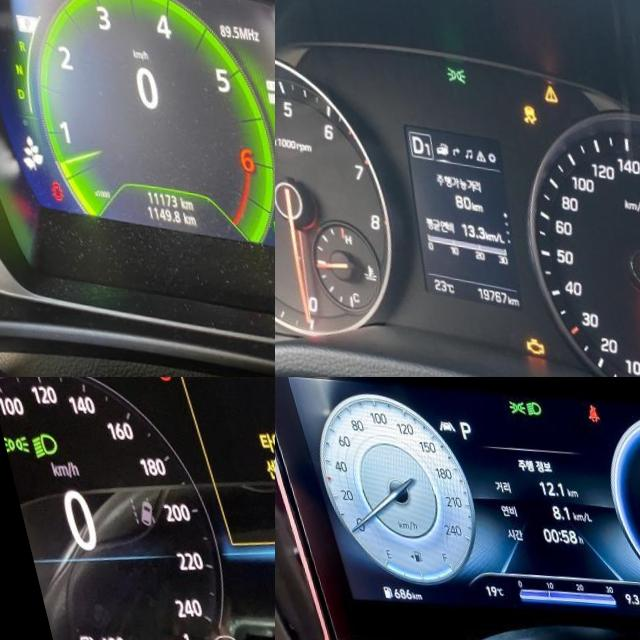Central Warning lamp: (533, 75, 551, 95)
Doors: (28, 176, 44, 197)
Low beam: (14, 430, 46, 460), (510, 394, 529, 412)
SideLamp: (437, 58, 461, 78), (0, 433, 16, 455), (494, 393, 514, 410)
